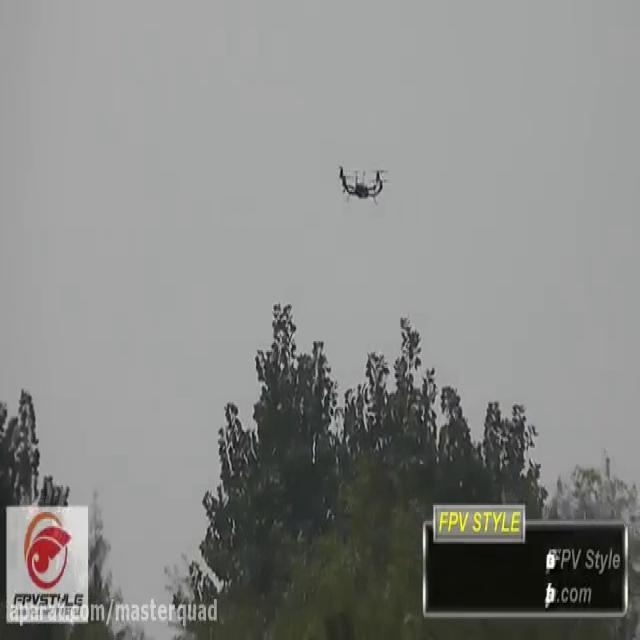drone: (335, 158, 391, 204)
